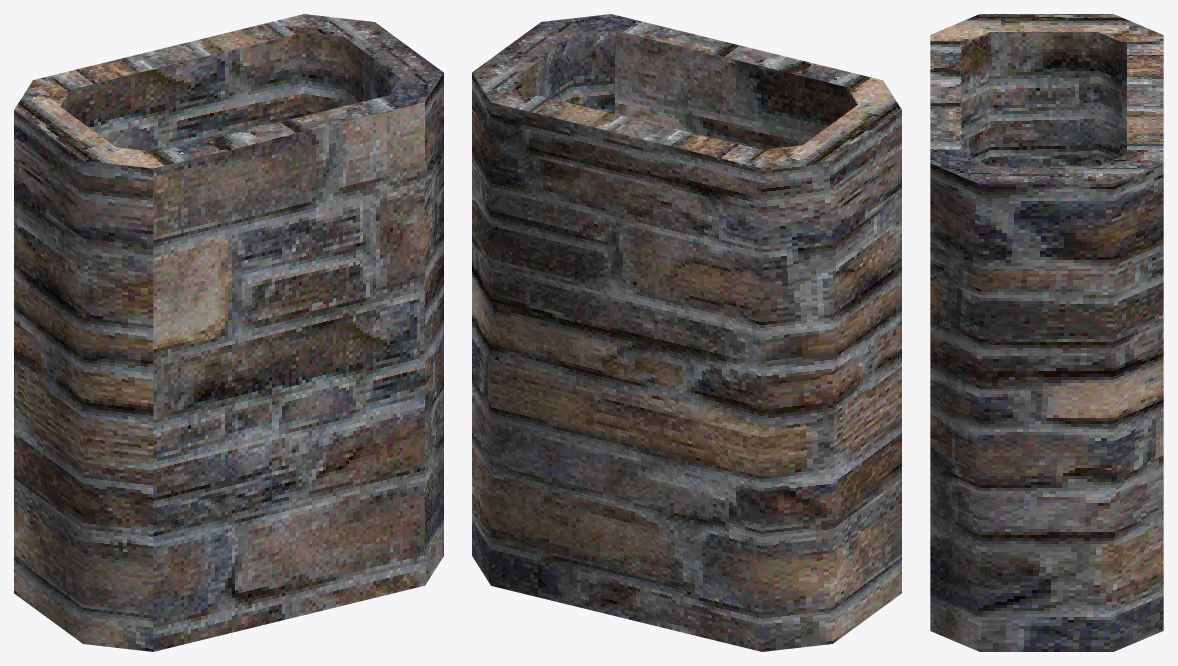
The model's file is chimney-ext-top.glb.
3 views of the same model, side by side, from view 1: azimuth 30°, elevation 25°; view 2: azimuth 150°, elevation 25°; view 3: azimuth 270°, elevation 25° (orthographic). The views are drawn at different scales.
Visible parts, largest first — view 1: chimney-ext-top.001; view 2: chimney-ext-top.001; view 3: chimney-ext-top.001.
Part boxes in pixels (bbox=[...]): chimney-ext-top.001: bbox=[14, 14, 443, 651]; chimney-ext-top.001: bbox=[472, 14, 901, 651]; chimney-ext-top.001: bbox=[930, 14, 1163, 651].
Size of the model in its own units: 1.2 by 1.54 by 0.6969.
Materials: 1 (1 with a texture image).
